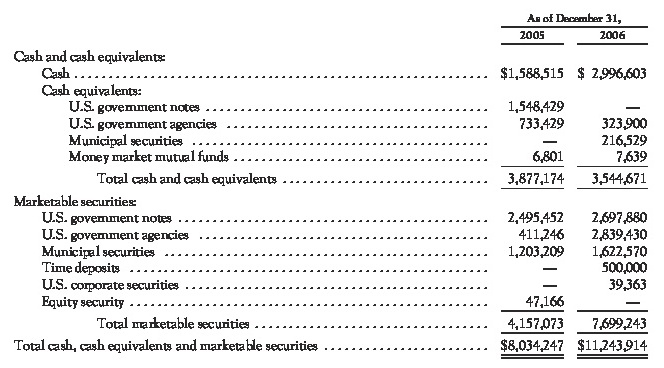table: (0, 0, 664, 368)
